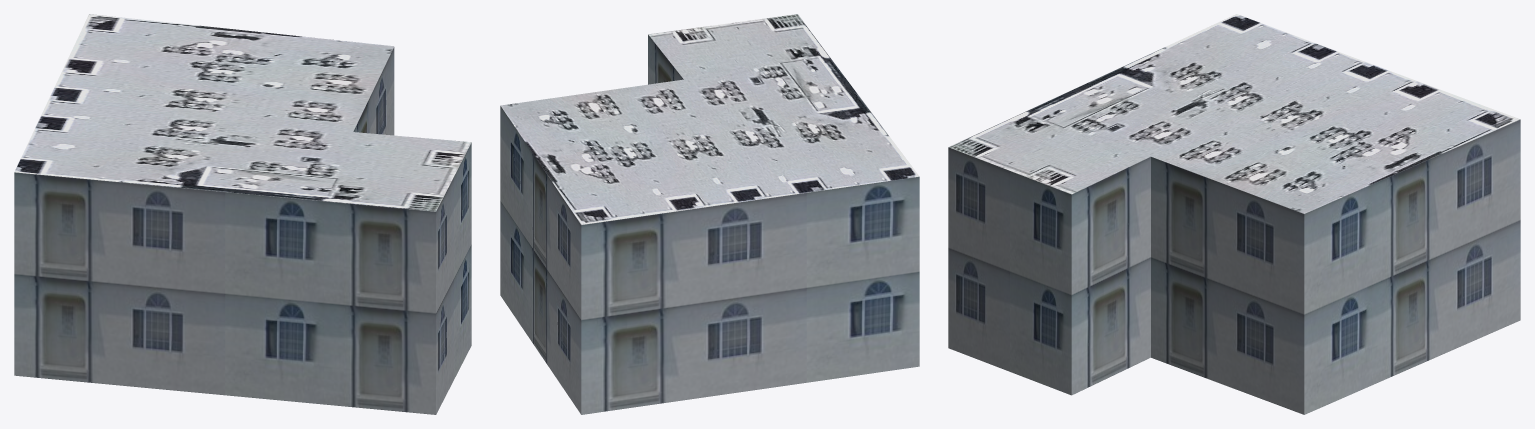
Rendered from ResTex__1871.fbx.
The picture shows the model from 3 angles, left to right: view 1: azimuth 30°, elevation 25°; view 2: azimuth 150°, elevation 25°; view 3: azimuth 270°, elevation 25°; orthographic projection. The views are drawn at different scales.
Visible parts, largest first — view 1: CityEngineMaterial_17_m, CityEngineMaterial_8_m; view 2: CityEngineMaterial_17_m, CityEngineMaterial_8_m; view 3: CityEngineMaterial_17_m, CityEngineMaterial_8_m.
Part boxes in pixels (x1,y1,x2,y2): CityEngineMaterial_17_m: (14,47,471,414); CityEngineMaterial_8_m: (14,14,471,211); CityEngineMaterial_17_m: (500,34,919,414); CityEngineMaterial_8_m: (500,14,919,224); CityEngineMaterial_17_m: (948,119,1520,414); CityEngineMaterial_8_m: (949,14,1519,213).
Bounding box in the file's own units: 12.8 × 6 × 15.47.
2 materials, 2 textured.
